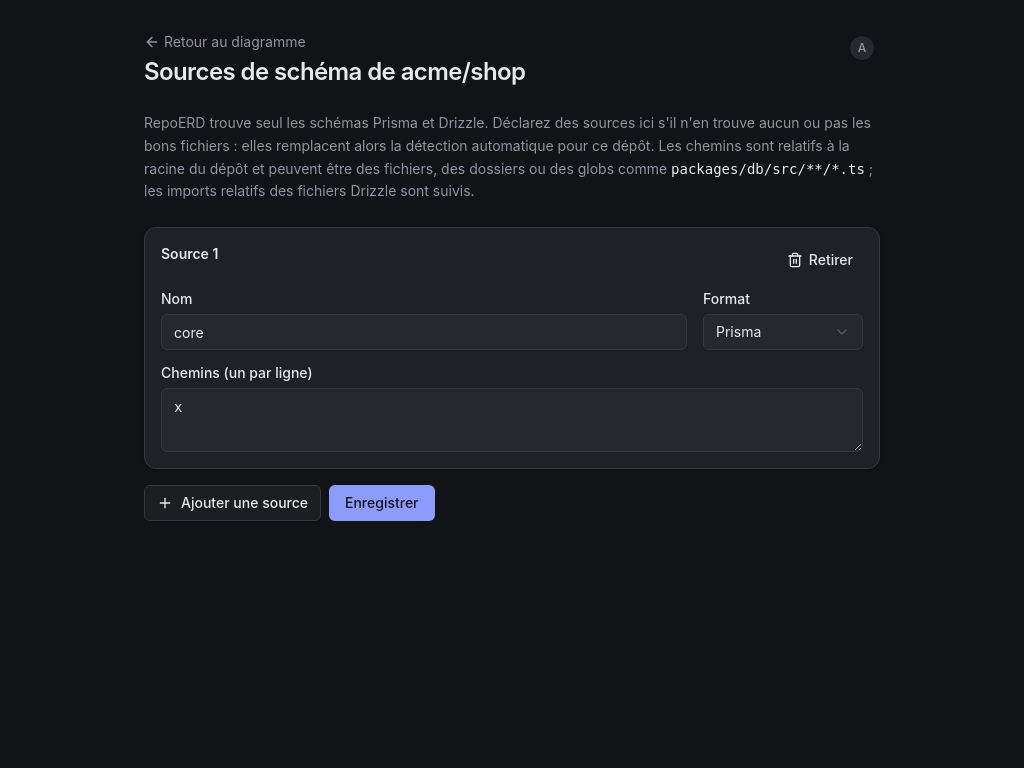
Scenario: RepoSettingsPage › confirms a save in French
Step 1. Click the button "Enregistrer" → (382, 503), box top-left (329, 485), bottom-right (434, 521)
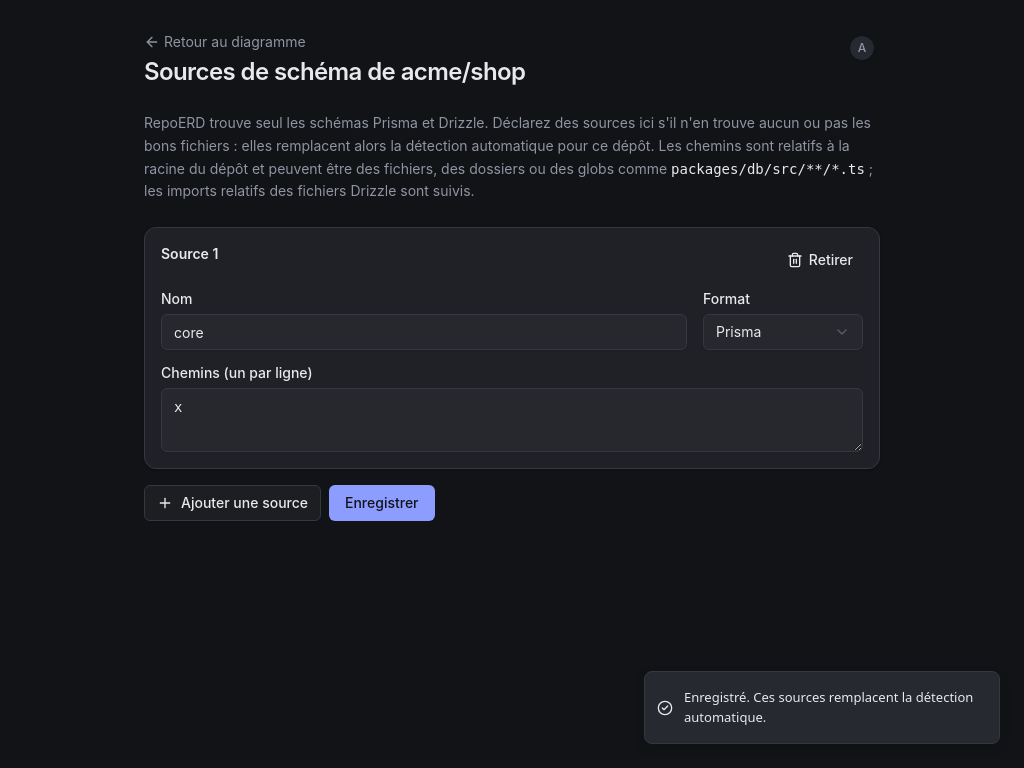
expect the list item "Enregistré. Ces sources remplacent la détection automatique." is shown: met, box top-left (644, 671), bottom-right (1000, 744)
